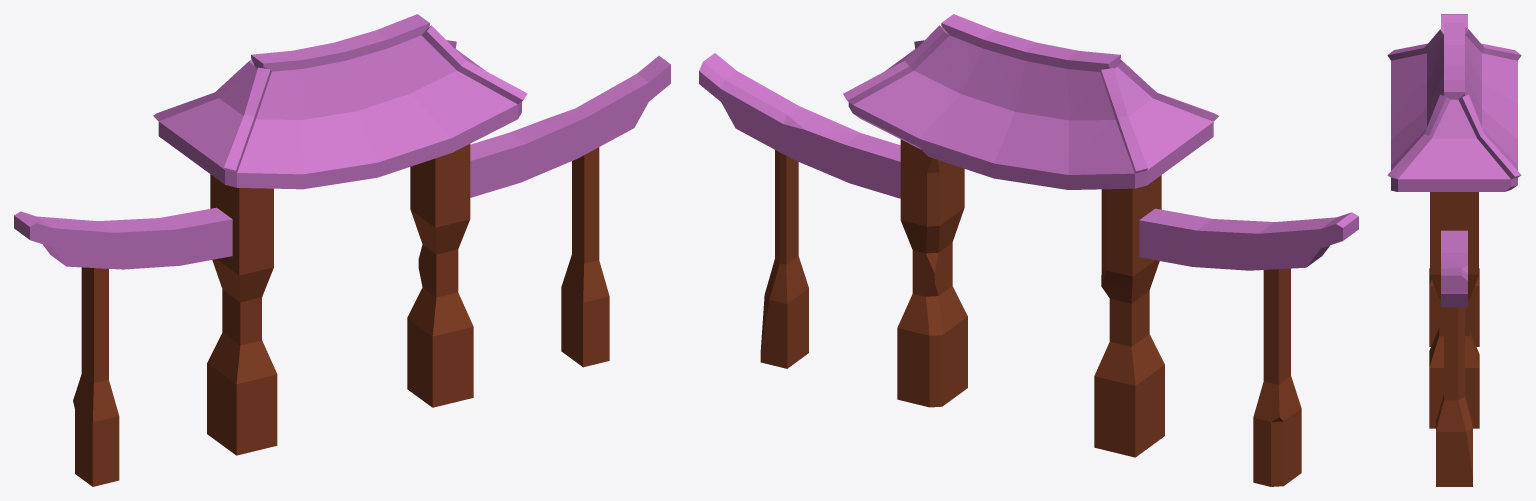
Rendered from Gate_02.FBX.
3 renders of one model, left to right at view 1: azimuth 30°, elevation 25°; view 2: azimuth 150°, elevation 25°; view 3: azimuth 270°, elevation 25°, orthographic. The views are drawn at different scales.
Parts seen in each view (by area): view 1: Gate_02; view 2: Gate_02; view 3: Gate_02.
Boxes of the visible parts, x1,y1,x2,y2 form: Gate_02: [14, 14, 670, 486]; Gate_02: [699, 14, 1358, 486]; Gate_02: [1387, 14, 1521, 486].
Size of the model in its own units: 131 by 73.5 by 27.8.
